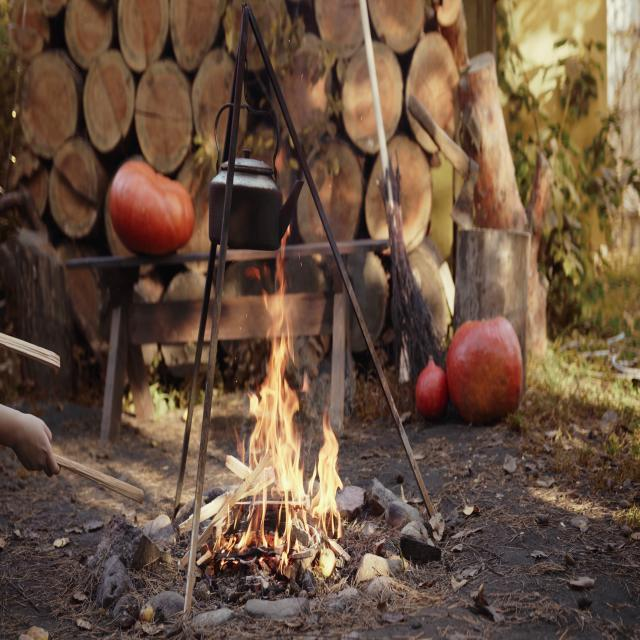Fire: (214, 240, 354, 578)
